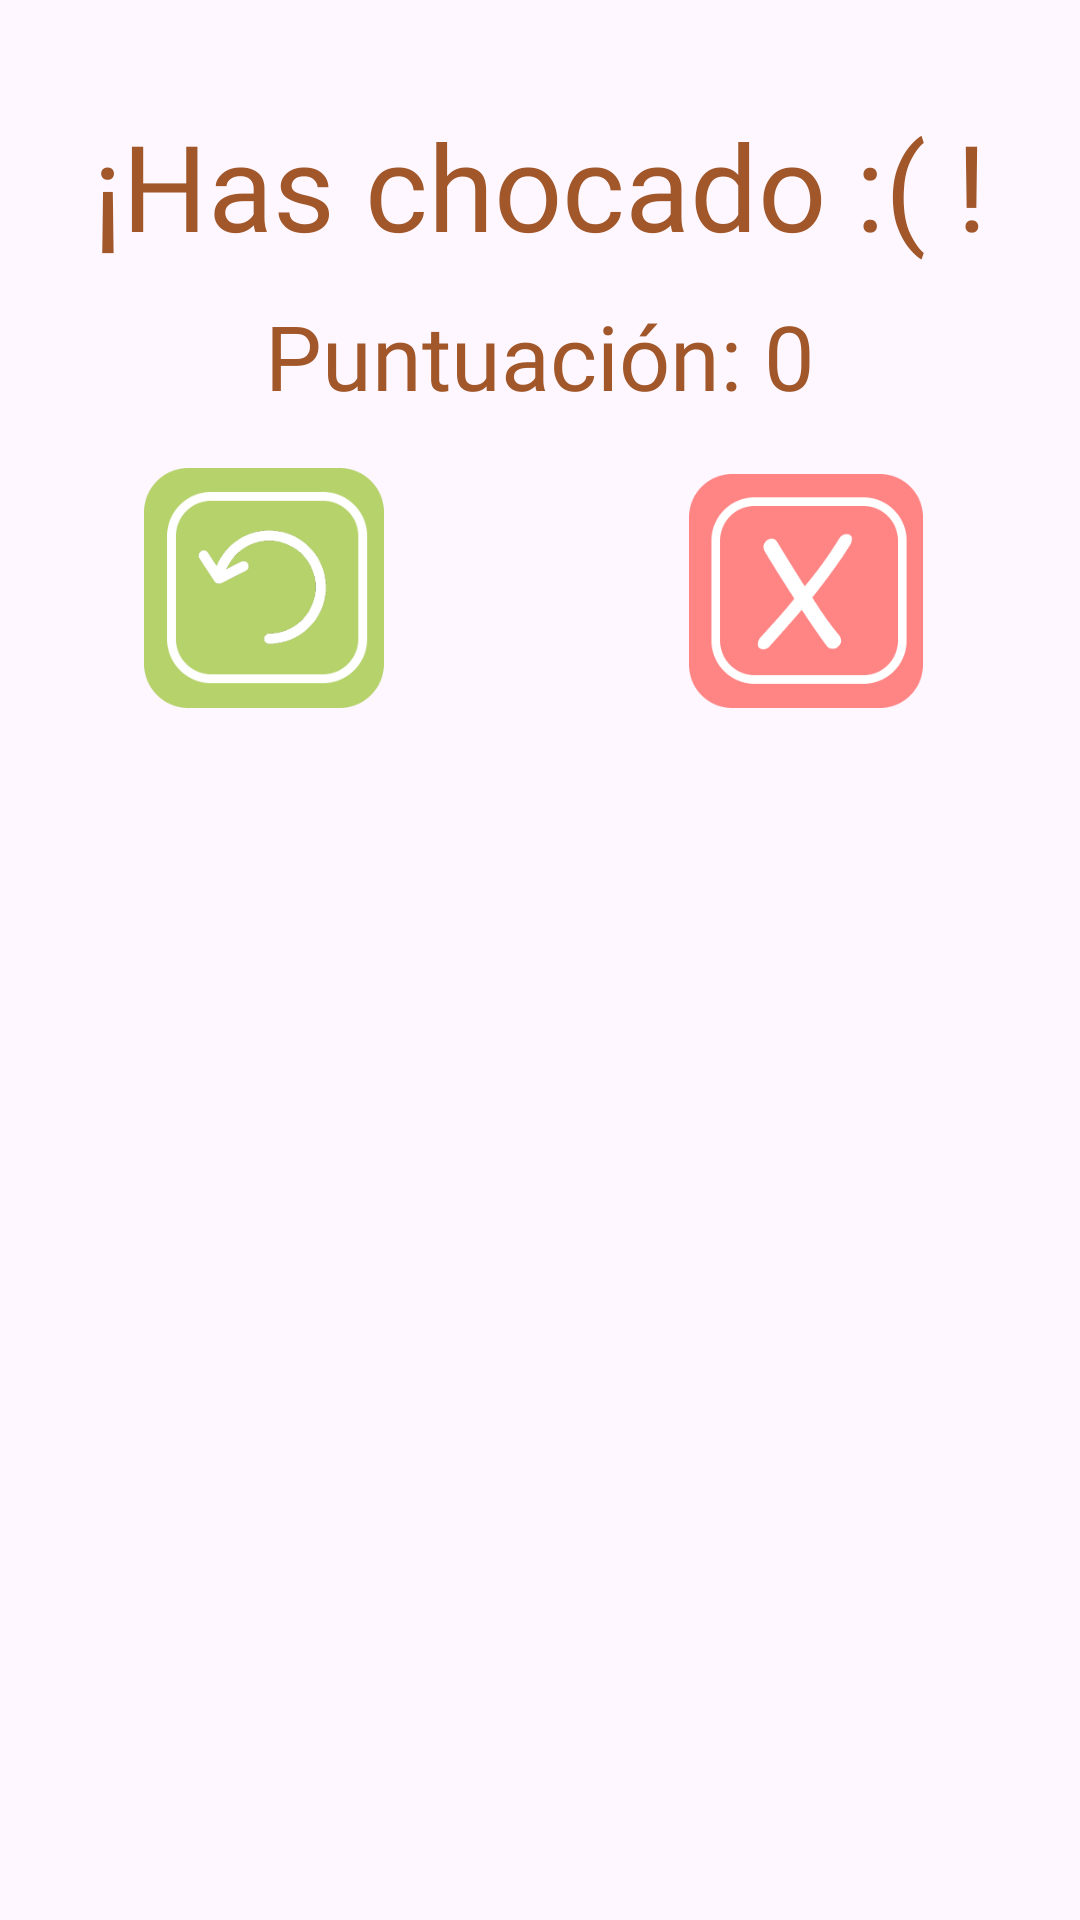

Icons on this 1080 × 1920 Android screen, each with its box as Rect(x1, y1, x2, y2):
regresar: Rect(144, 468, 384, 708)
salir: Rect(689, 474, 923, 708)
